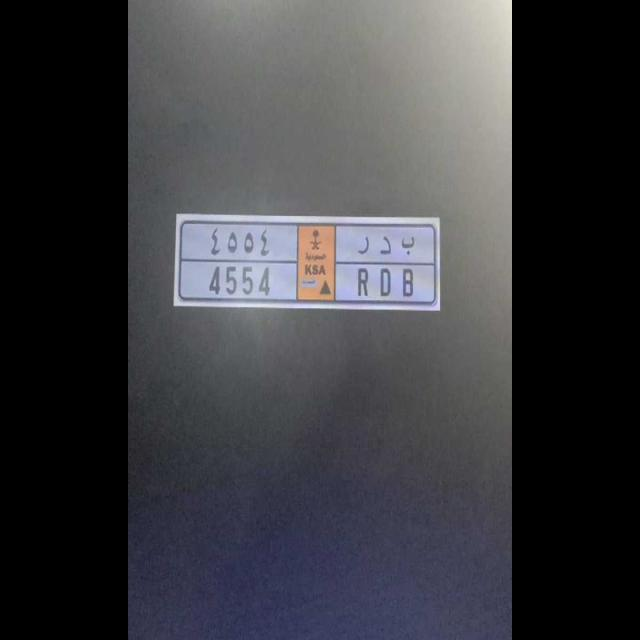license_plate: (176, 261, 437, 307)
